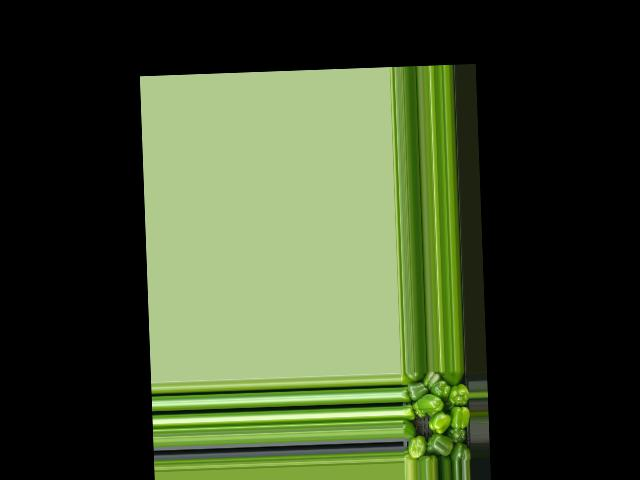bell_pepper: (439, 370, 459, 385)
